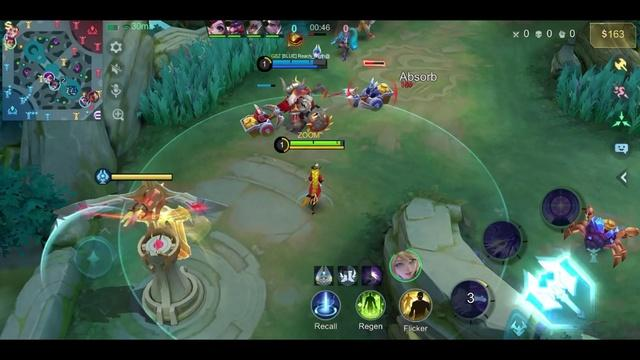Adc_Aliado: (4, 38, 17, 49)
Arbusto: (139, 37, 283, 124), (556, 57, 639, 132)
Cangrejo_Oro: (564, 206, 639, 266)
EXP_Lane: (90, 108, 105, 123)
Energia: (289, 145, 345, 150)
Esbirro_Aliado: (240, 104, 283, 134)
Esbirro_Enemigo: (346, 78, 393, 109)
Exp_Aliado: (78, 95, 91, 108)
Exp_Enemigo: (88, 94, 100, 103)
Franco: (278, 77, 330, 132)
Gold_Lane: (1, 18, 15, 34)
HP_Aliado: (272, 58, 328, 66)
HP_Heroe_Principal: (289, 141, 345, 146)
Hechizo_Batalla: (398, 288, 432, 321)
Jungla_Aliado: (49, 79, 61, 91)
Layla: (331, 24, 357, 59)
Lesly: (302, 163, 323, 212)
Mana: (272, 66, 327, 70)
Mid_Aliado: (44, 73, 54, 82)
Minimapa: (2, 19, 104, 120)
Roamer_Aliado: (5, 32, 16, 39)
Roamer_Enemigo: (10, 25, 18, 35)
Torre_Aliada: (41, 181, 226, 337)
